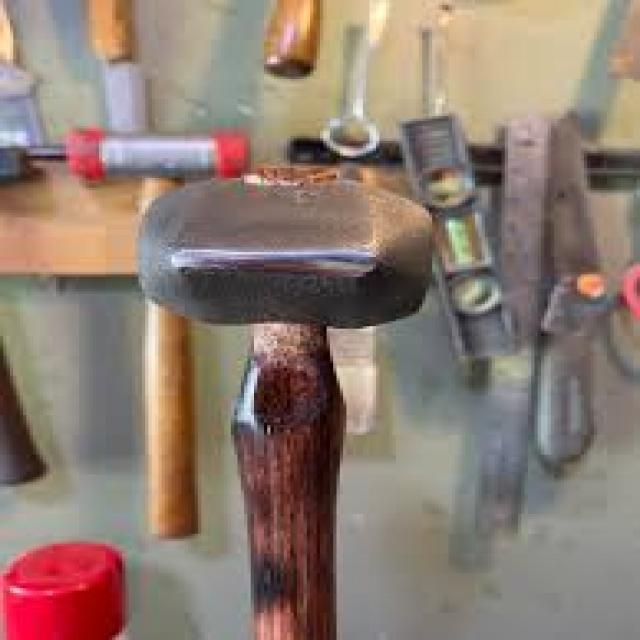hammer: (117, 160, 440, 640)
